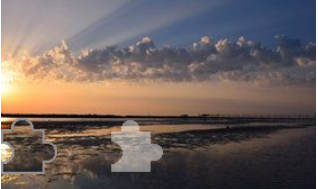target: (108, 117, 165, 174)
